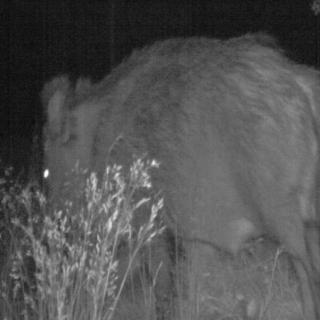Pig: (28, 14, 320, 262)
